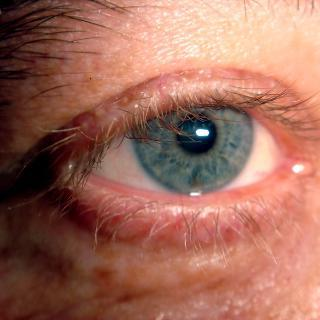pupil: (176, 113, 218, 154)
